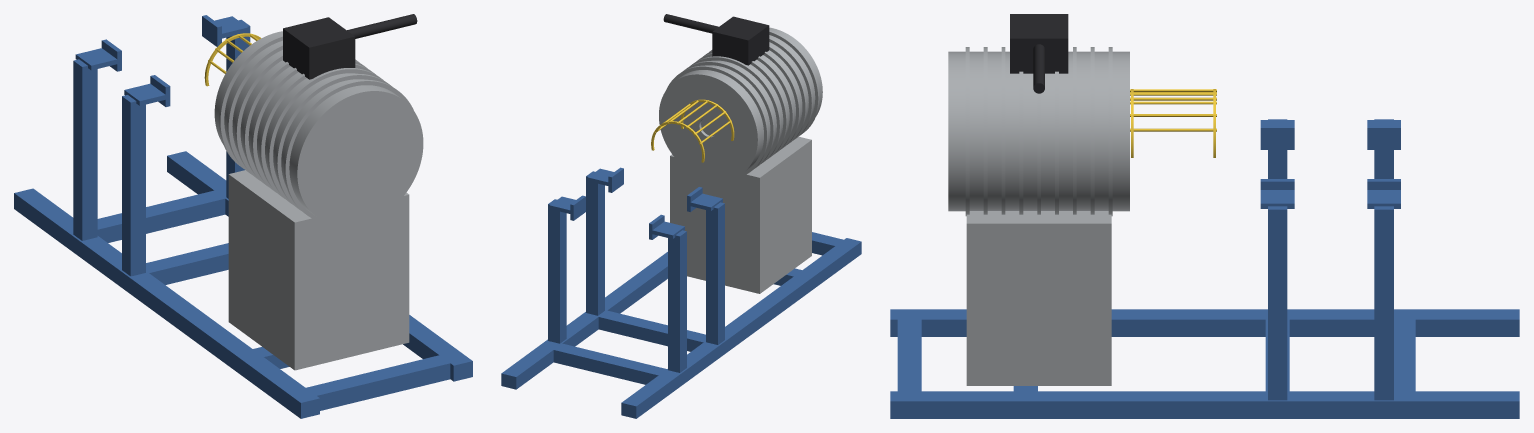
The model's file is stand.glb.
3 views of the same model, side by side, from view 1: azimuth 30°, elevation 25°; view 2: azimuth 150°, elevation 25°; view 3: azimuth 270°, elevation 25° (orthographic). The views are drawn at different scales.
Visible parts, largest first — view 1: paint_gray_1, paint_blue_0, black_2, paint_yellow_3; view 2: paint_gray_1, paint_blue_0, black_2, paint_yellow_3; view 3: paint_gray_1, paint_blue_0, black_2, paint_yellow_3.
Boxes of the visible parts, x1,y1,x2,y2 form: paint_gray_1: (214,31,423,370); paint_blue_0: (14,15,472,418); black_2: (283,14,417,79); paint_yellow_3: (204,33,261,86); paint_gray_1: (659,27,822,293); paint_blue_0: (501,167,861,418); black_2: (663,14,769,65); paint_yellow_3: (651,99,734,162); paint_gray_1: (948,47,1129,385); paint_blue_0: (890,119,1519,418); black_2: (1010,14,1068,93); paint_yellow_3: (1130,89,1216,157).
Bounding box in the file's own units: 0.475 × 0.79 × 1.3.
